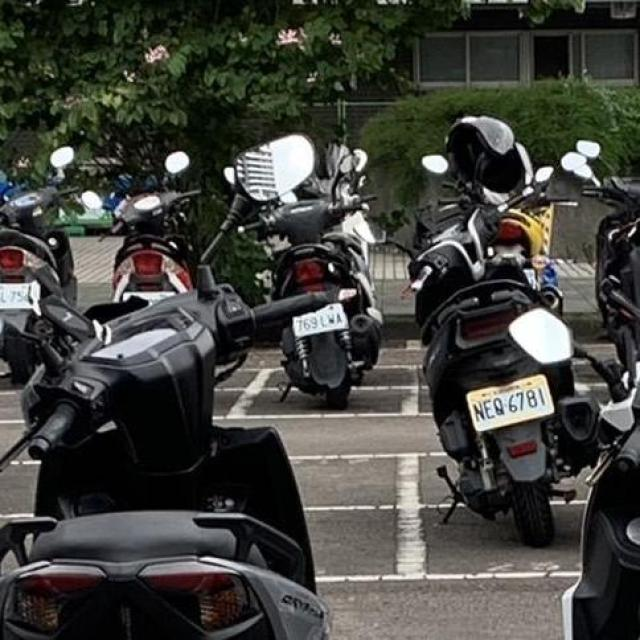W: (467, 374, 559, 434), (291, 304, 351, 338)
